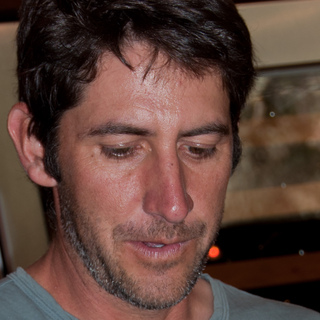eye: (97, 140, 144, 163), (179, 140, 221, 163)
